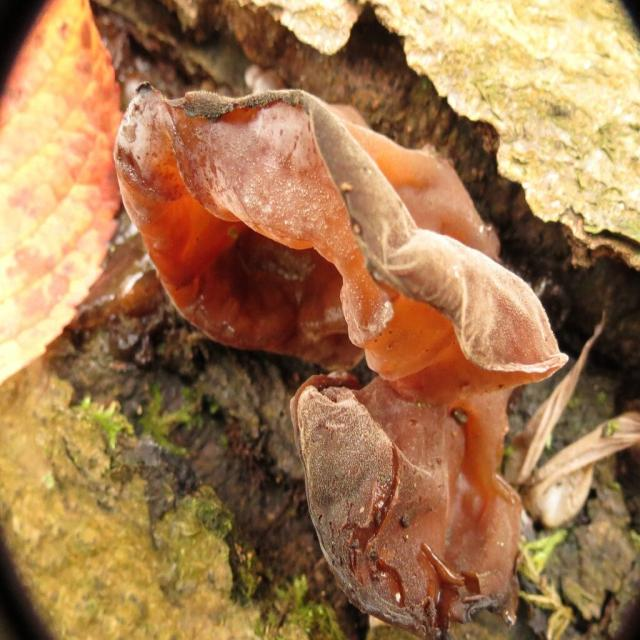Matang: (102, 76, 578, 407), (276, 358, 526, 640)
